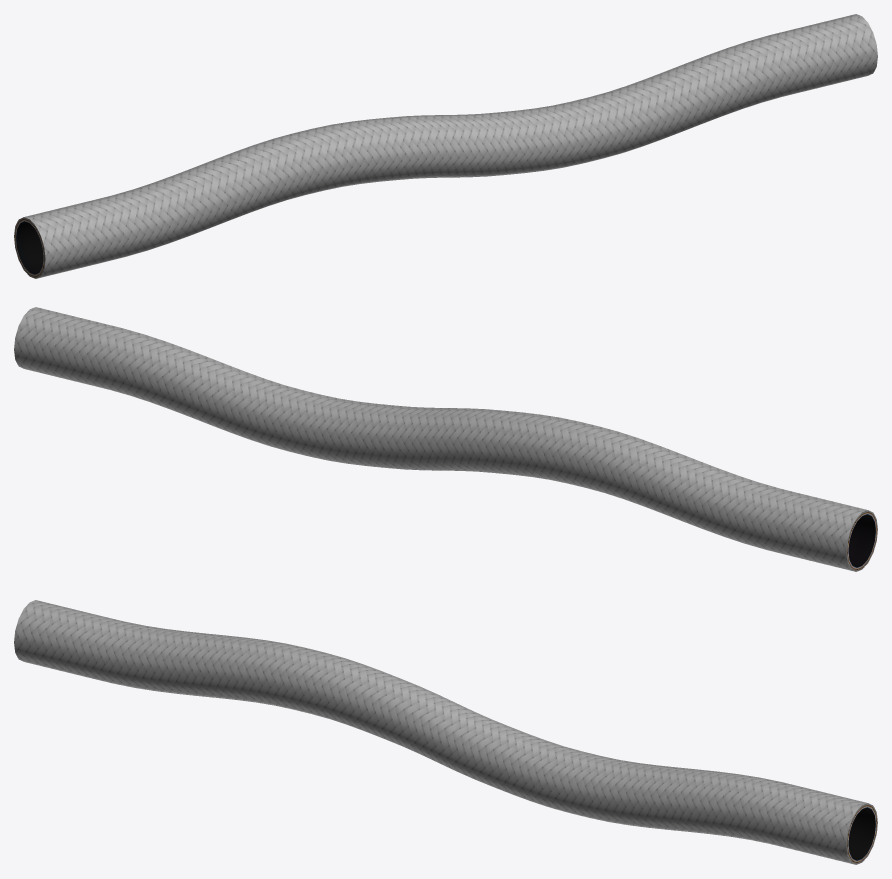
The picture shows the model from 3 angles, top to bottom: view 1: azimuth 30°, elevation 25°; view 2: azimuth 150°, elevation 25°; view 3: azimuth 330°, elevation 25°; orthographic projection.
Visible parts, largest first — view 1: Stainless_Steel_Braid-32.003; view 2: Stainless_Steel_Braid-32.003; view 3: Stainless_Steel_Braid-32.003.
Part boxes in pixels (x1,y1,x2,y2): Stainless_Steel_Braid-32.003: (14, 14, 877, 278); Stainless_Steel_Braid-32.003: (14, 307, 877, 571); Stainless_Steel_Braid-32.003: (14, 600, 877, 864).
Bounding box in the file's own units: 0.922 × 0.0989 × 0.0607.
Materials: 2 (2 with a texture image).
